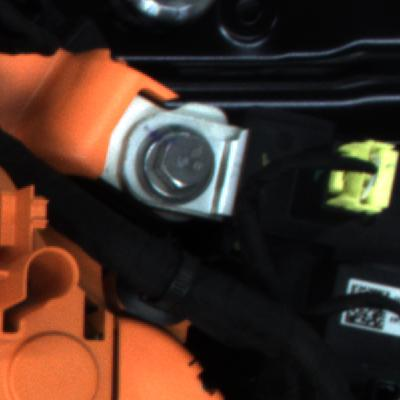nut_b: (126, 119, 229, 213)
